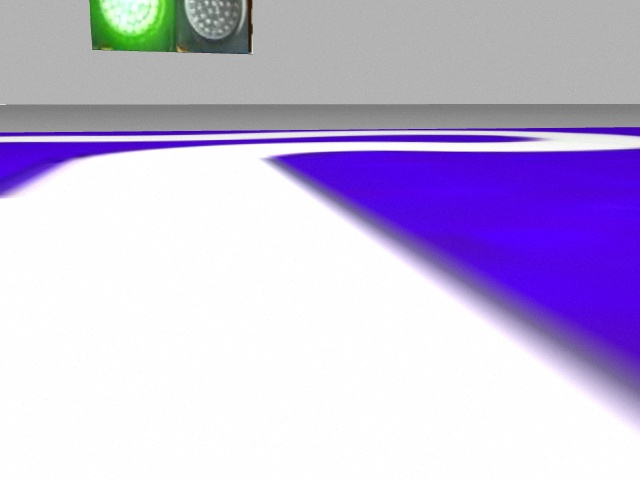green: (89, 1, 177, 52)
